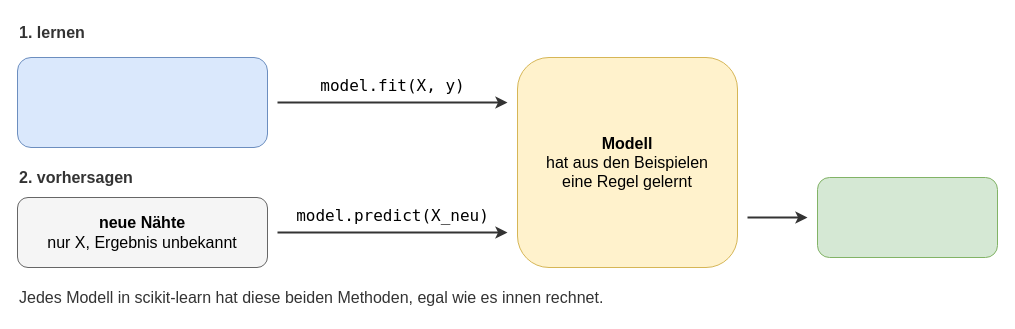
The diagram is 1015 pixels wide and 329 high, and some of its shapes have lost their labels. The shapes that lost their labels are listed below. From the top down, each one's centre as x and y in pixels, then its label:
the point at 142,102: Beispiele mit Ergebnis X: Geschwindigkeit, Strom y: ok / nicht ok
the point at 907,217: Vorhersage ok / nicht ok je neue Naht
